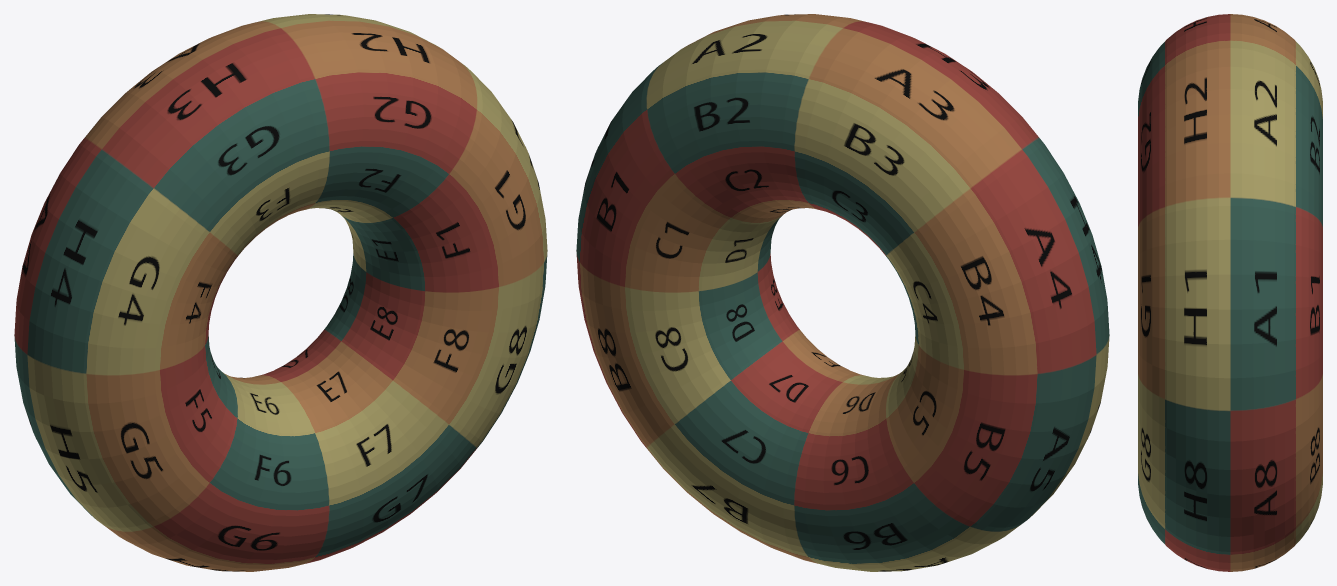
The model's file is texture_torus_R12_r26.glb.
3 views of the same model, side by side, from view 1: azimuth 30°, elevation 25°; view 2: azimuth 150°, elevation 25°; view 3: azimuth 270°, elevation 25° (orthographic). The views are drawn at different scales.
Parts seen in each view (by area): view 1: world; view 2: world; view 3: world.
Part boxes in pixels (<box>): world: <box>14,14,547,571</box>; world: <box>576,14,1109,571</box>; world: <box>1138,14,1322,571</box>.
Bounding box in the file's own units: 26.93 × 26.88 × 8.92.
Materials: 1 (1 with a texture image).
